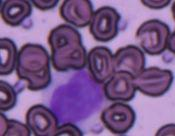M: (46, 66, 107, 124)
